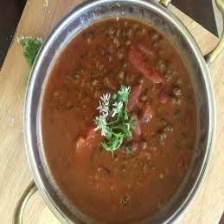sabzi: (42, 19, 201, 224)
